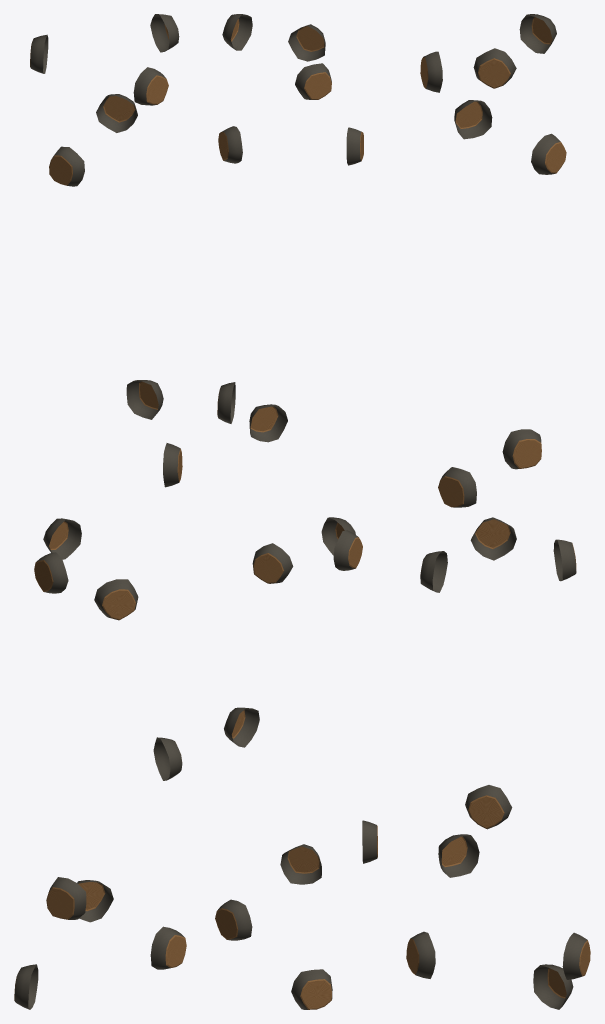
The model's file is Sitka_Pole_01_MediumPruned_Recent_LOD2.fbx.
The picture shows the model from 3 angles, left to right: view 1: azimuth 30°, elevation 25°; view 2: azimuth 150°, elevation 25°; view 3: azimuth 270°, elevation 25°; orthographic projection. The views are drawn at different scales.
Parts seen in each view (by area): view 1: Sitka_Pole_01_MediumPruned_Recent_LOD2_Scars; view 2: Sitka_Pole_01_MediumPruned_Recent_LOD2_Scars; view 3: Sitka_Pole_01_MediumPruned_Recent_LOD2_Scars.
Part boxes in pixels (<box>): Sitka_Pole_01_MediumPruned_Recent_LOD2_Scars: <box>14,14,186,1009</box>; Sitka_Pole_01_MediumPruned_Recent_LOD2_Scars: <box>215,14,377,1009</box>; Sitka_Pole_01_MediumPruned_Recent_LOD2_Scars: <box>406,14,590,1009</box>.
Size of what is drawn, in the model's own units: 15.23 by 102 by 16.85.
2 materials, 2 textured.
